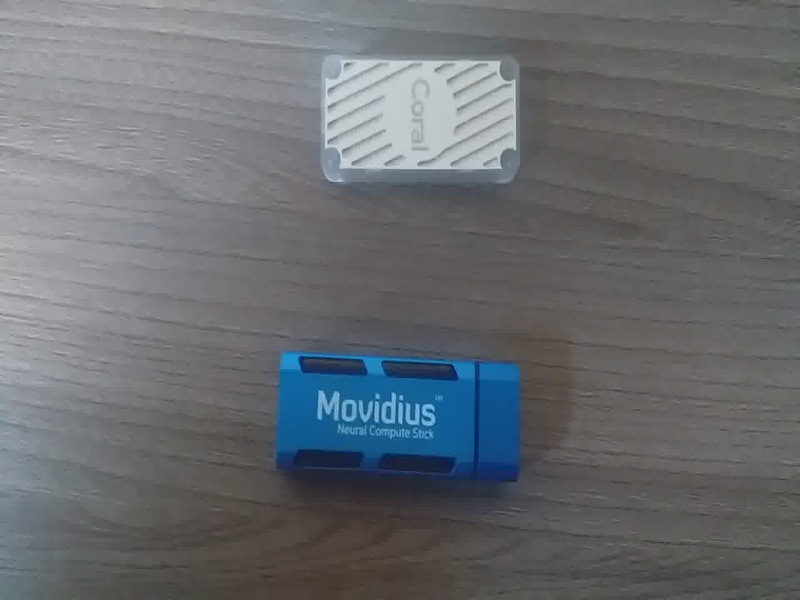coral: (317, 52, 535, 193)
movidius: (267, 344, 538, 497)
